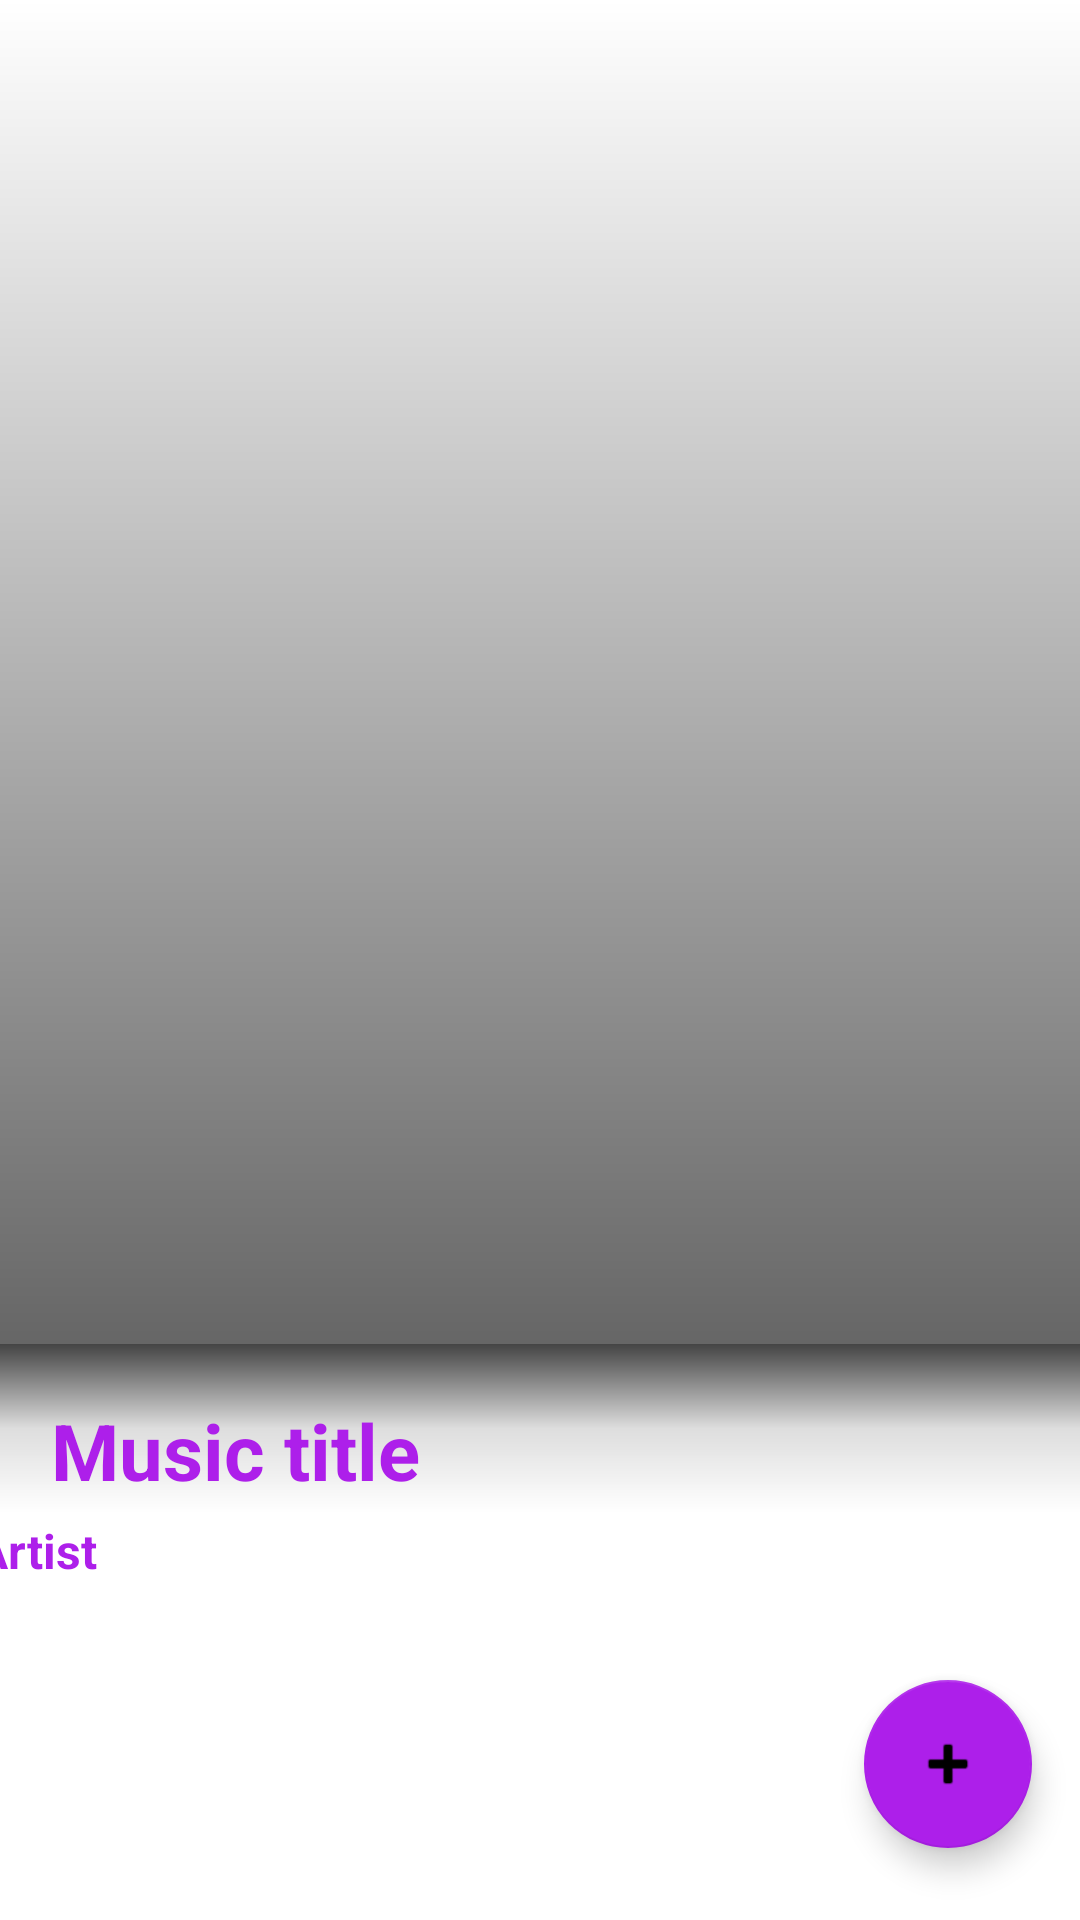

Icons on this 1080*1920 Android screen, each with its box as bbox=[x1, y1, x2, y2]:
add: bbox=[864, 1680, 1032, 1848]
